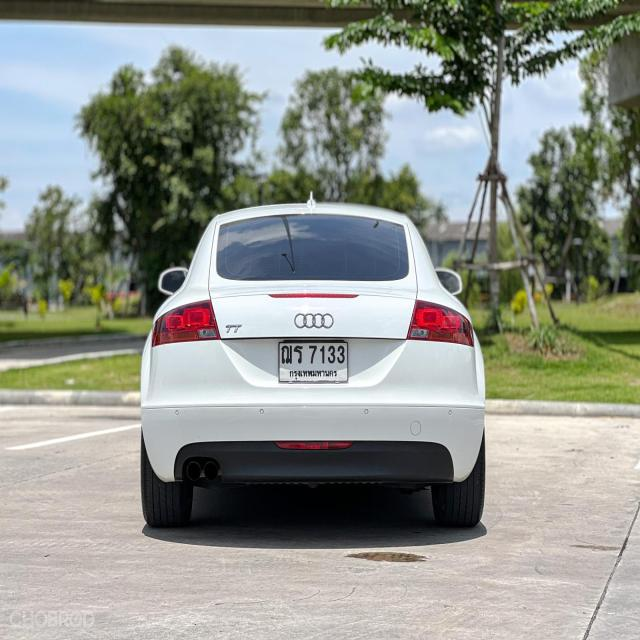license_plate: (276, 338, 351, 387)
